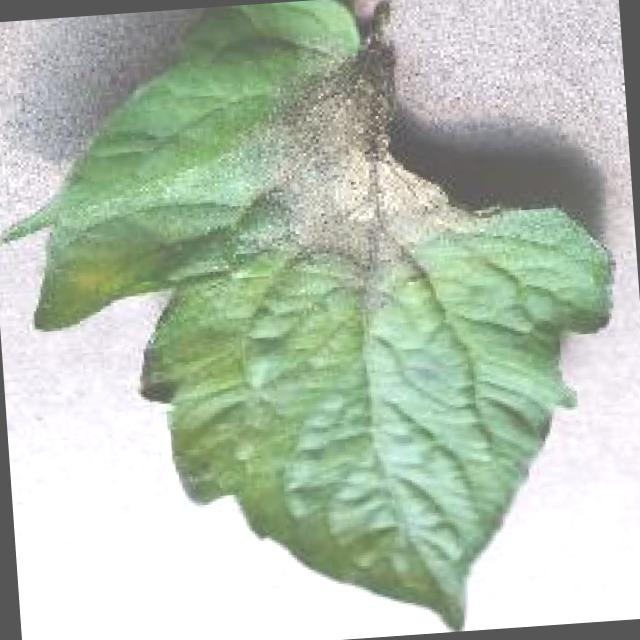leaf blight: (0, 0, 615, 631)
